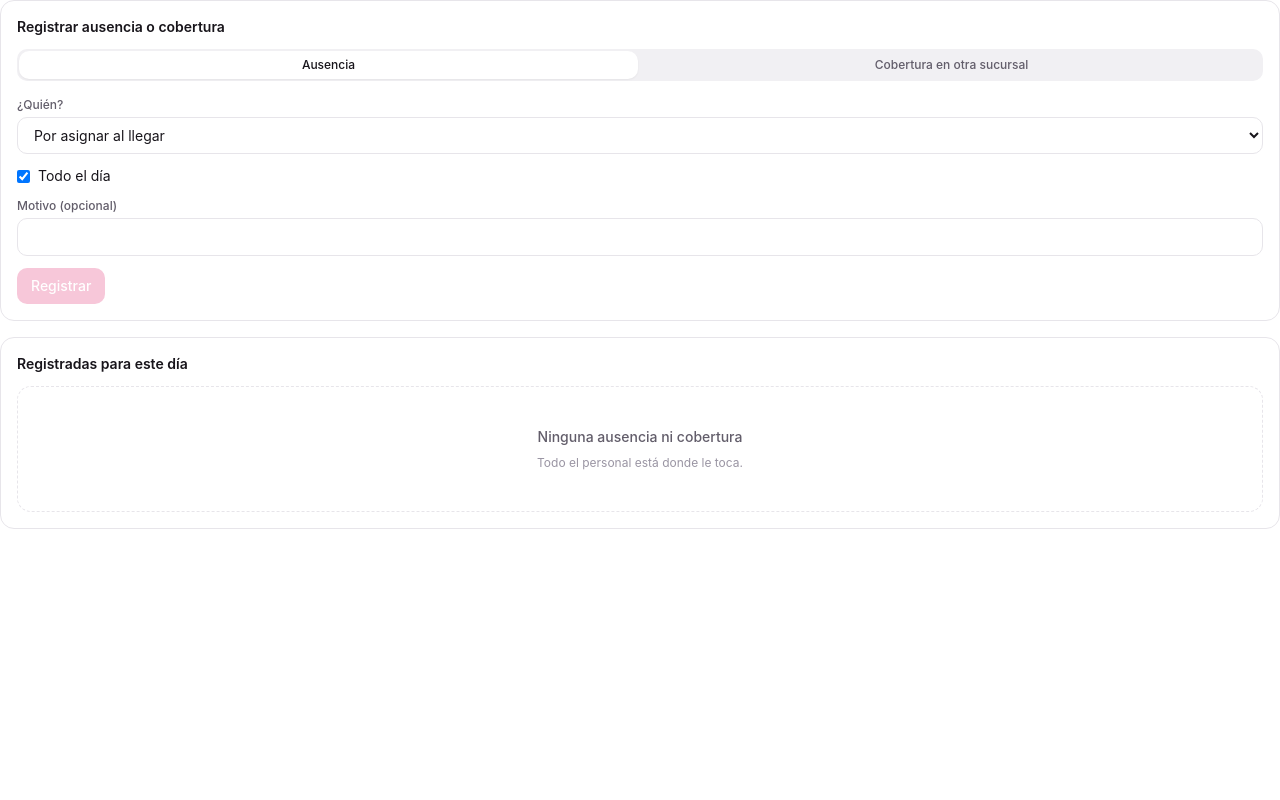
it: Ausencias — LA ALERTA DE `citasAfectadas` ES EL PRODUCTO DE LA PANTALLA › distingue `sobrecupo_en_sucursal` y dice CUÁNTA GENTE FALTA
The image size is (1280, 800).
Select "Ana" in the dropdown labelled "¿Quién?" at (640, 136), box [17, 117, 1263, 154]
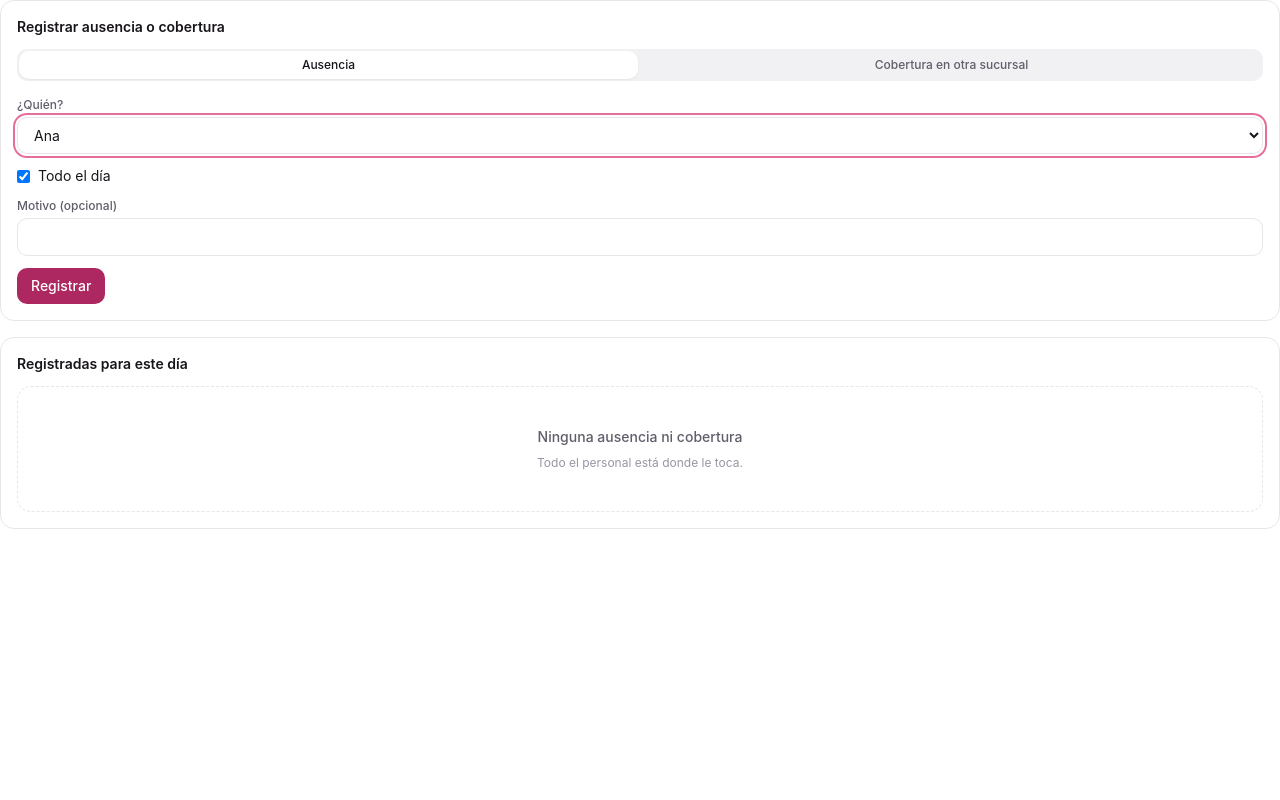
Click the button "Registrar" at (61, 286), box [17, 268, 105, 304]
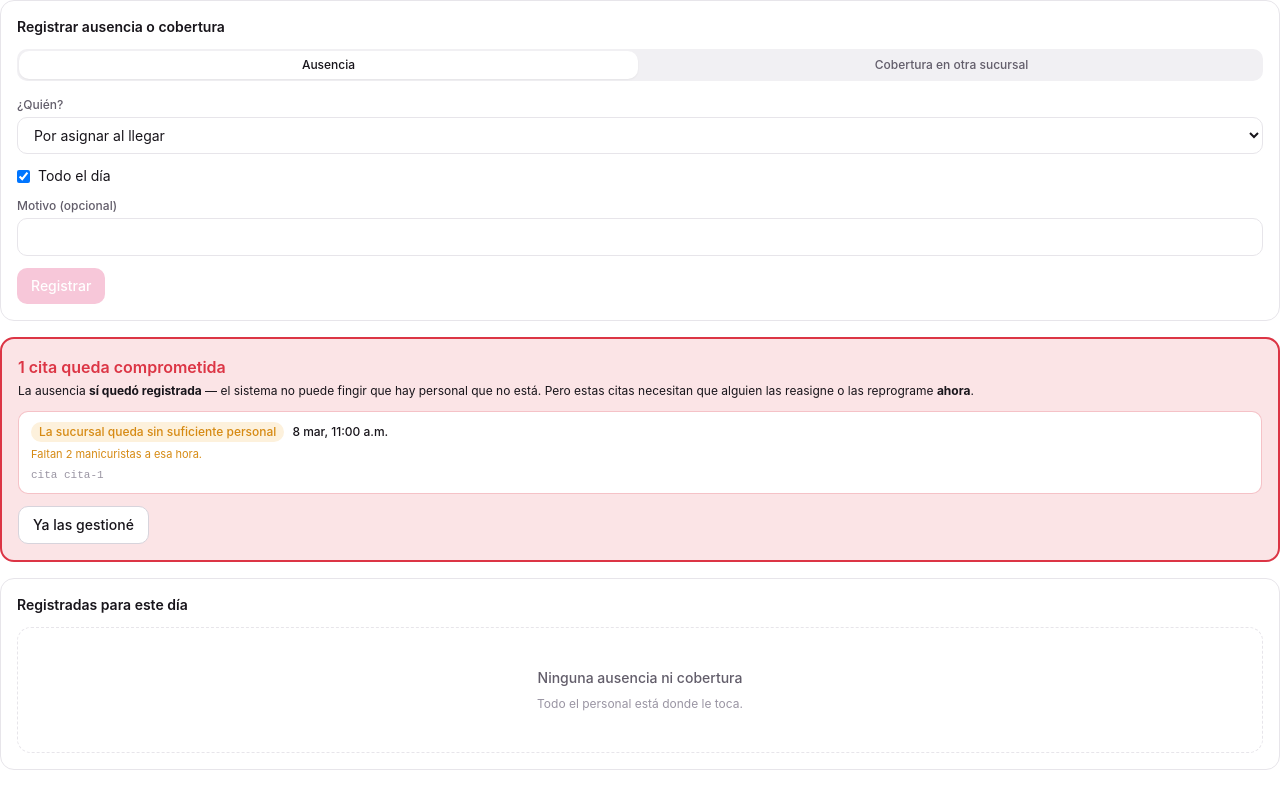
Expected: the message shows "La sucursal queda sin suficiente personal", [39, 424, 276, 439]
Expected: the message shows "Faltan 2 manicuristas a esa hora", [0, 337, 1279, 562]
